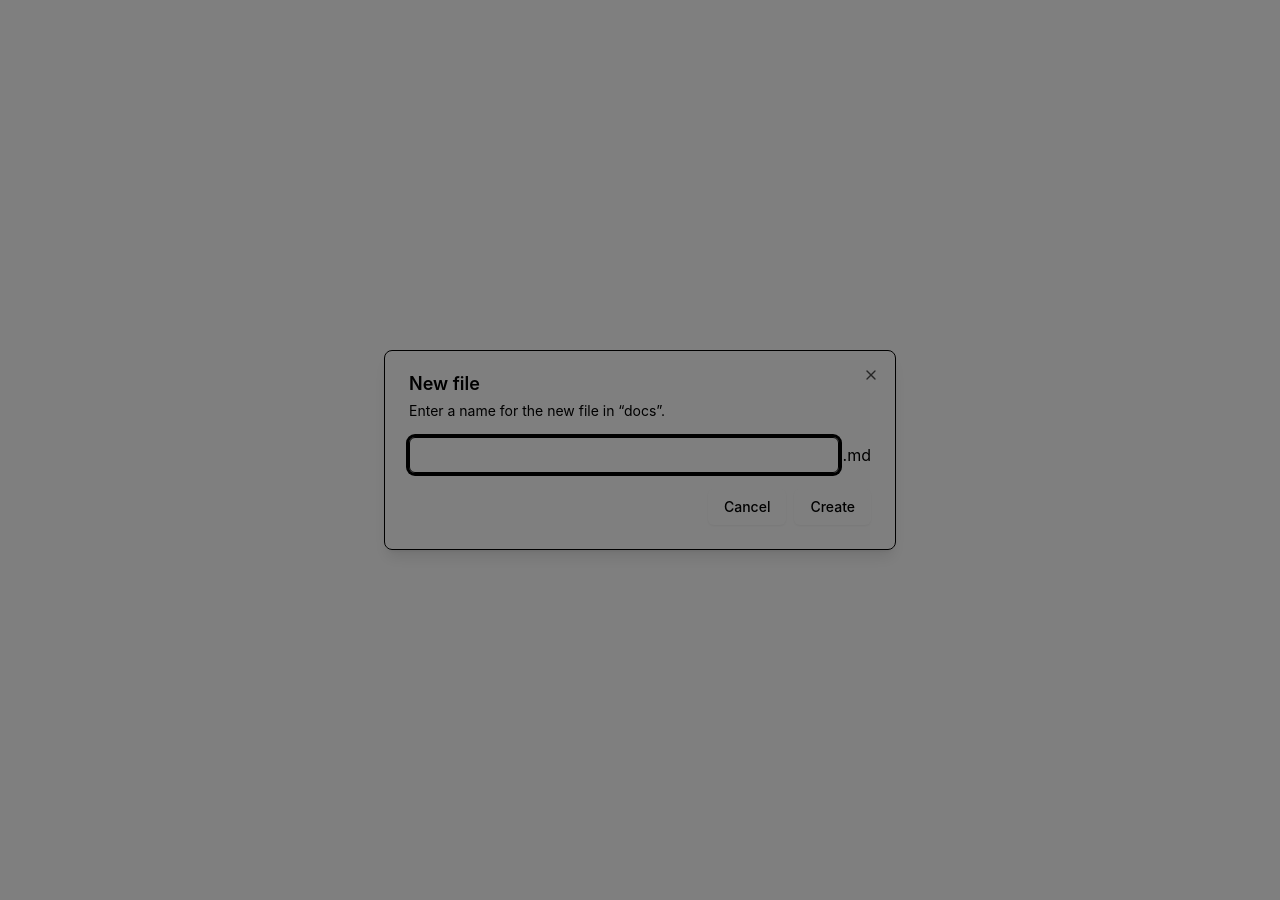
Scenario: CreateDialog › an empty or invalid name isn't sent
Click the button "Create".
click(833, 507)  # box [794,489,871,525]
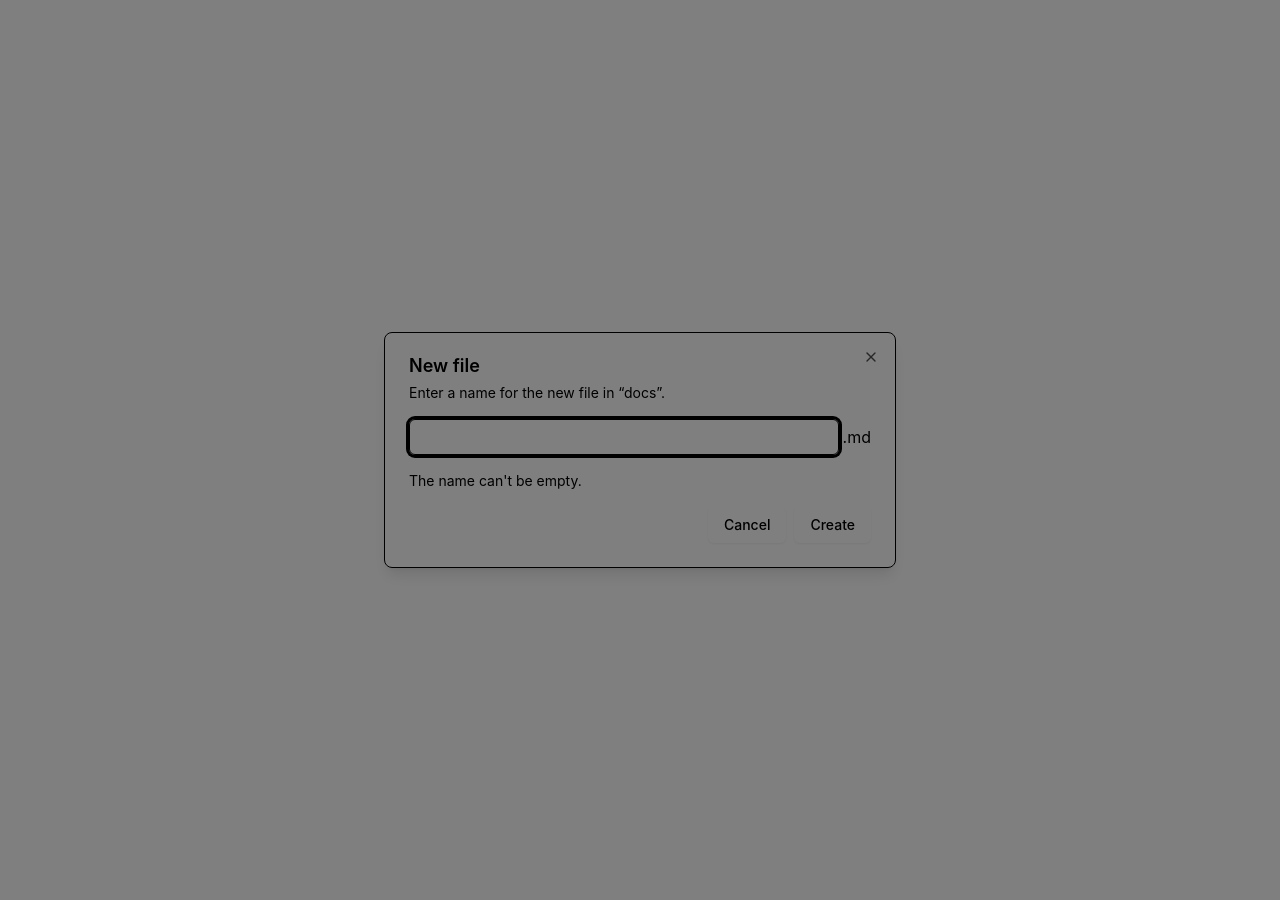
Expected: the message shows "empty", [409,472,582,489]
Type "a/b" into the field named "New name".
click(624, 437); type("a/b")  # box [409,419,839,455]
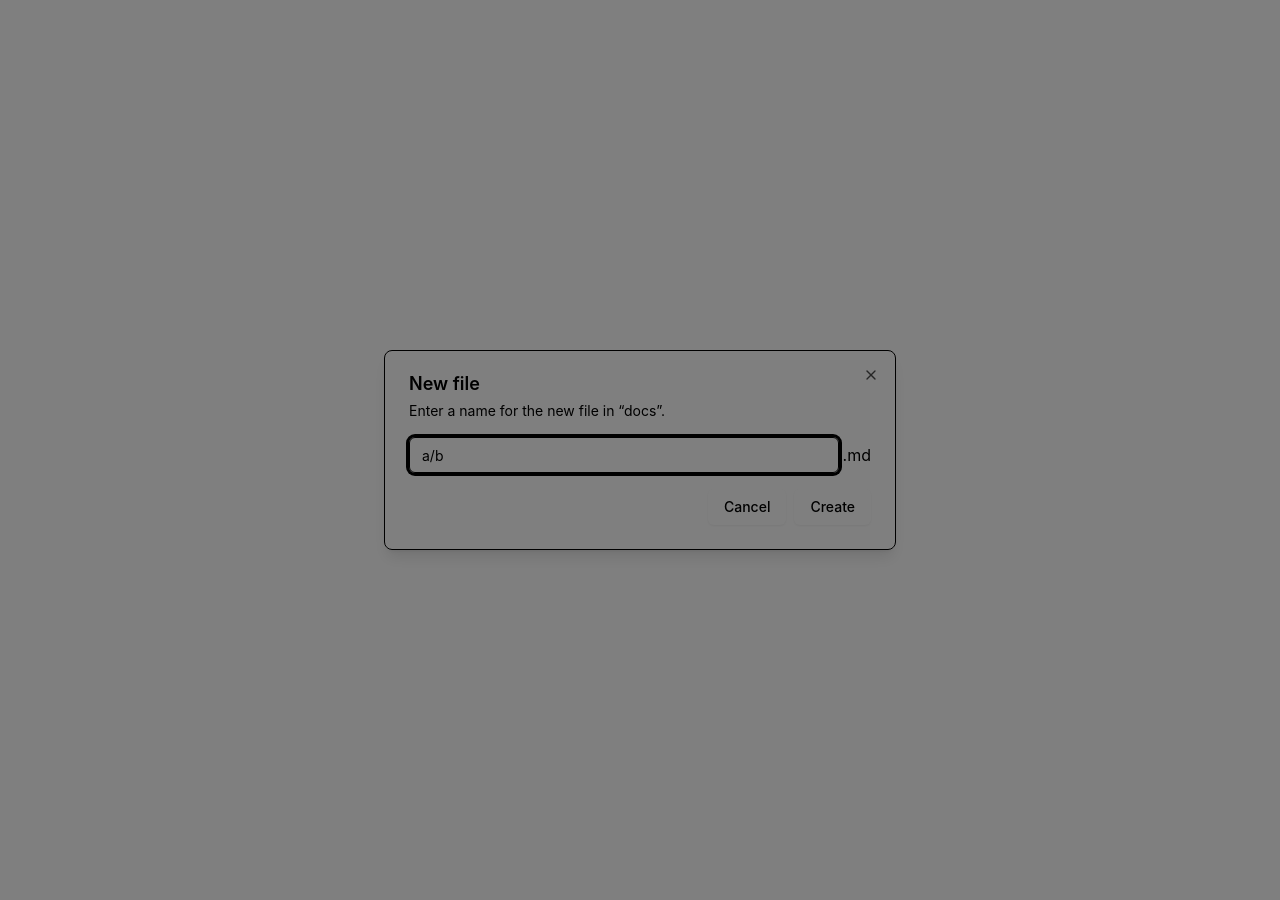
Click the button "Create".
click(833, 507)  # box [794,489,871,525]
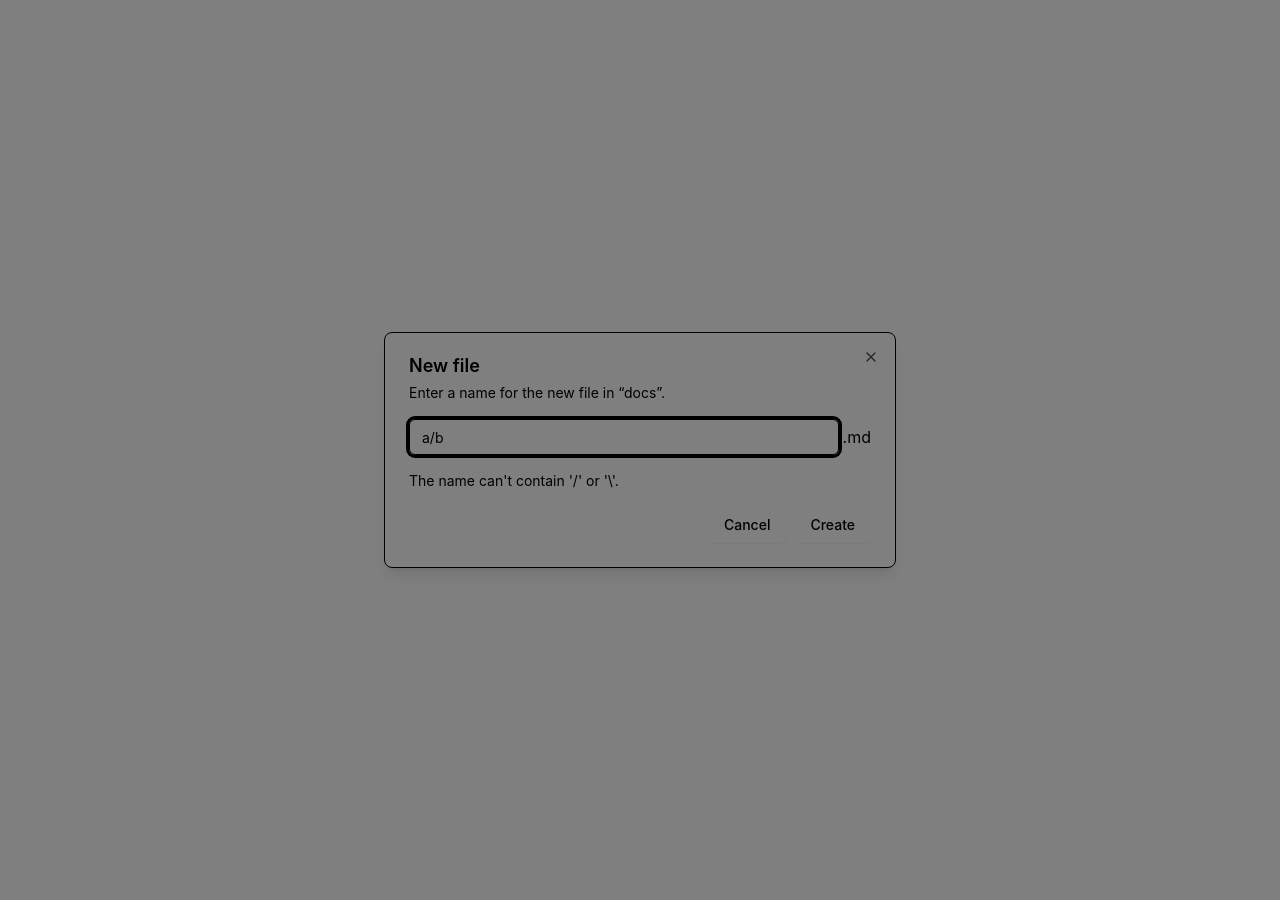
Expected: the message shows "/", [409,472,619,489]
